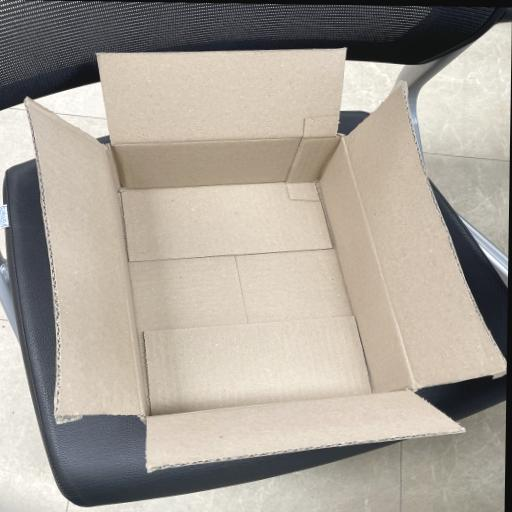box: (23, 47, 507, 473)
opened: (24, 47, 507, 473)
